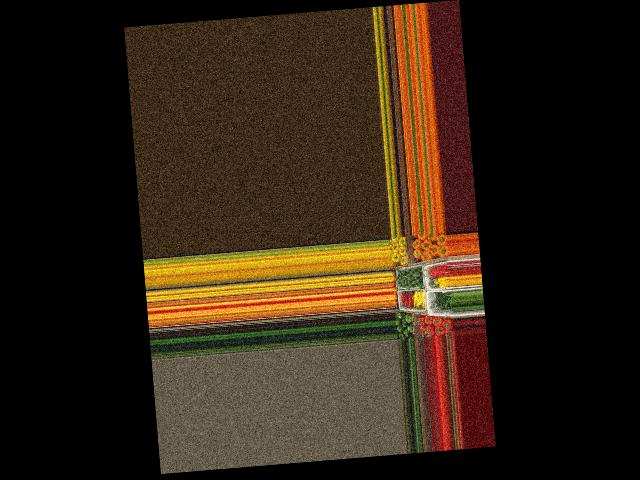bell_pepper: (403, 323, 415, 334)
